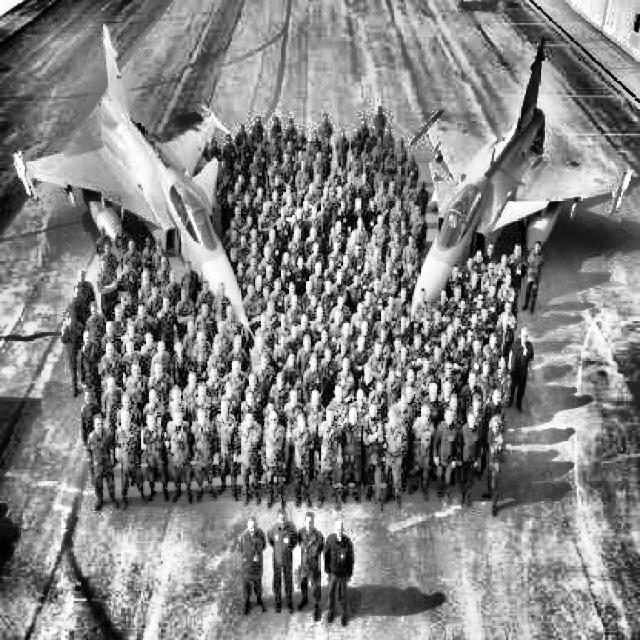JAS39: (11, 23, 257, 342), (409, 36, 634, 321)
